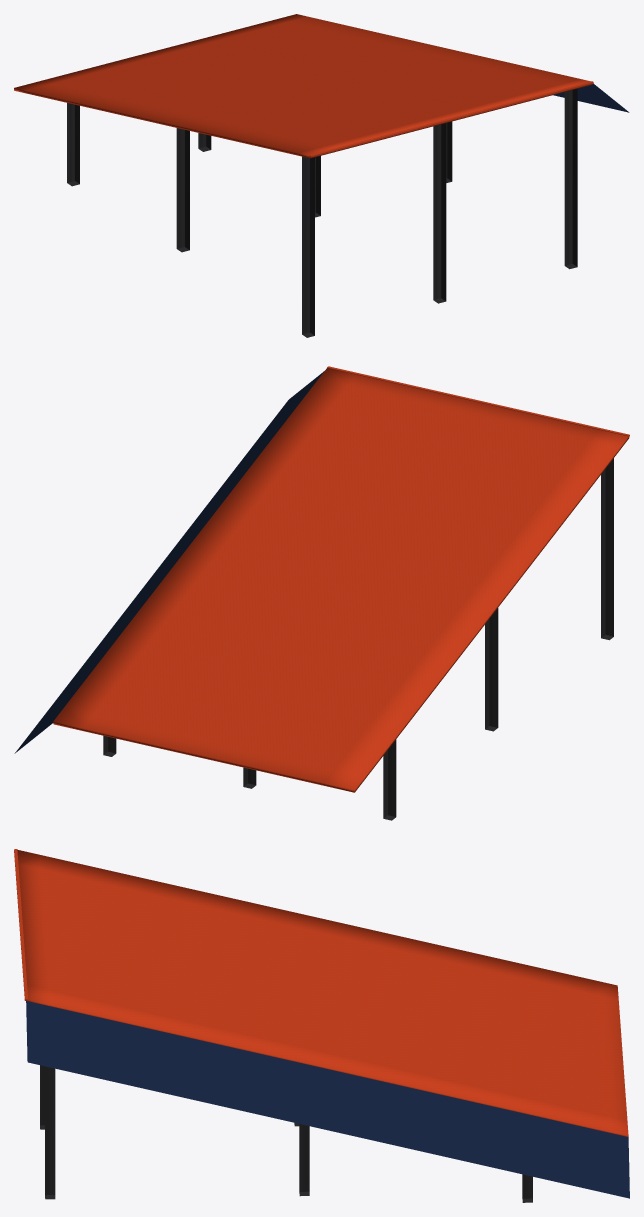
The model's file is Ramp_V1.fbx.
3 views of the same model, one above another, from view 1: azimuth 30°, elevation 25°; view 2: azimuth 150°, elevation 25°; view 3: azimuth 270°, elevation 25° (orthographic). The views are drawn at different scales.
Parts seen in each view (by area): view 1: Ramp_V1_Surface, Ramp_V1_Post.003, Ramp_V1_Post.006, Ramp_V1_Post, Ramp_V1_Post.001, Ramp_V1_Post.002, Ramp_V1_Lip, Ramp_V1_Apron; view 2: Ramp_V1_Surface, Ramp_V1_Apron, Ramp_V1_Post, Ramp_V1_Post.001, Ramp_V1_Post.002, Ramp_V1_Lip; view 3: Ramp_V1_Surface, Ramp_V1_Apron, Ramp_V1_Post.006, Ramp_V1_Post.007, Ramp_V1_Lip.
Part boxes in pixels (x1,y1,x2,y2): Ramp_V1_Surface: [14, 14, 592, 158]; Ramp_V1_Post.003: [433, 123, 446, 303]; Ramp_V1_Post.006: [564, 88, 577, 269]; Ramp_V1_Post: [302, 156, 314, 337]; Ramp_V1_Post.001: [176, 128, 189, 252]; Ramp_V1_Post.002: [67, 103, 79, 186]; Ramp_V1_Lip: [309, 81, 593, 157]; Ramp_V1_Apron: [553, 83, 629, 112]; Ramp_V1_Surface: [53, 368, 629, 792]; Ramp_V1_Apron: [14, 371, 324, 753]; Ramp_V1_Post: [601, 458, 613, 640]; Ramp_V1_Post.001: [485, 608, 498, 731]; Ramp_V1_Post.002: [383, 739, 396, 820]; Ramp_V1_Lip: [327, 366, 629, 436]; Ramp_V1_Surface: [17, 849, 628, 1136]; Ramp_V1_Apron: [26, 1001, 629, 1198]; Ramp_V1_Post.006: [45, 1066, 55, 1199]; Ramp_V1_Post.007: [299, 1124, 309, 1196]; Ramp_V1_Lip: [14, 849, 28, 1000].
Size of what is drawn, in the model's own units: 4.99 by 2.79 by 7.31.
